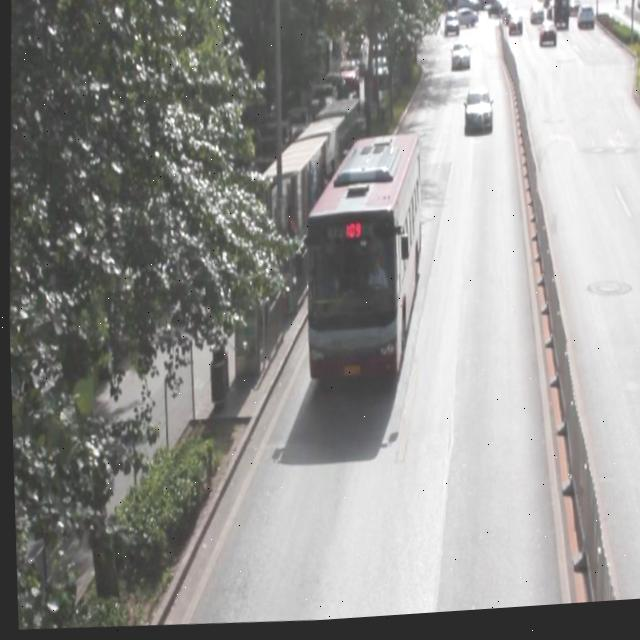car: (459, 93, 492, 142), (448, 47, 468, 76)
van: (297, 138, 423, 391)
